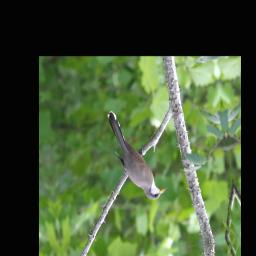Cuckoo: (105, 100, 168, 209)
